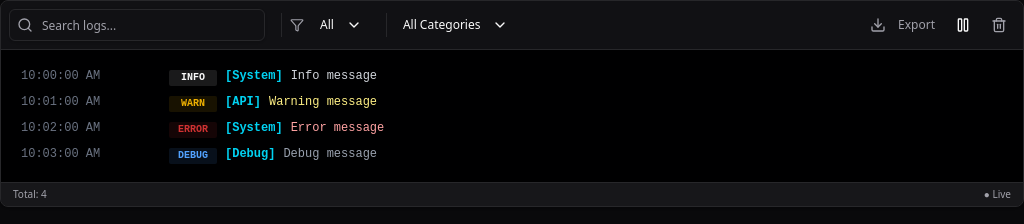
LogViewer › Category Selection › should filter logs when category is selected from dropdown
The width and height of the screenshot is (1024, 224).
# Open category dropdown
Click the button "All Categories": (456, 25) [395,13,516,37]
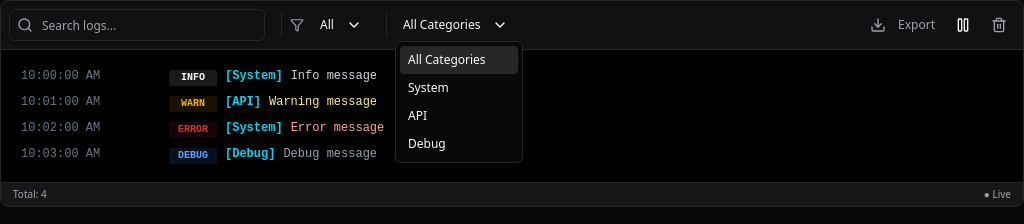
# Click System category
Click the menu item "System": (428, 88) [408,79,449,96]
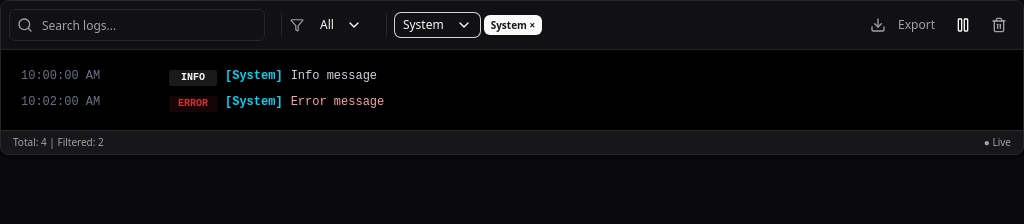
Expected: the text "Info message" is shown, [291,68,377,86]
Now the text "Warning message" is gone
